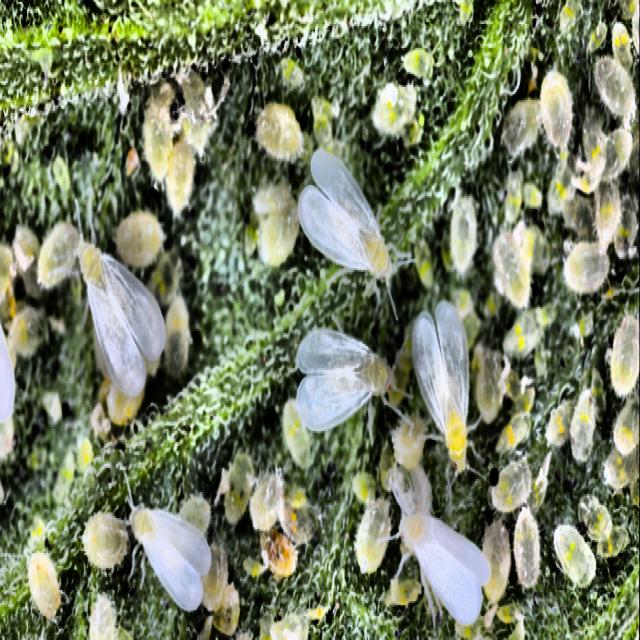nymph: (253, 185, 299, 265), (492, 220, 534, 307), (471, 344, 509, 422), (36, 222, 79, 289), (143, 83, 172, 179), (354, 498, 391, 572), (215, 453, 254, 523), (594, 55, 635, 118), (82, 512, 128, 568), (255, 104, 303, 157), (117, 211, 163, 266), (553, 525, 595, 585), (540, 70, 572, 148), (481, 520, 510, 603), (576, 115, 607, 192), (610, 314, 639, 396), (371, 83, 416, 135), (162, 294, 190, 377), (501, 98, 540, 157), (563, 242, 609, 292), (450, 192, 477, 274), (490, 459, 531, 512), (388, 462, 431, 512), (165, 137, 193, 213), (513, 507, 539, 586), (281, 398, 310, 468), (29, 553, 60, 618), (570, 388, 597, 462), (13, 226, 40, 298), (503, 309, 543, 357), (177, 72, 215, 120), (279, 496, 315, 546), (594, 181, 620, 250), (201, 544, 228, 610), (8, 305, 42, 357), (249, 474, 280, 531), (90, 596, 131, 638), (392, 420, 424, 468), (613, 400, 639, 455), (578, 494, 609, 540), (603, 448, 636, 490), (495, 411, 530, 449), (213, 583, 239, 634), (607, 126, 632, 176), (178, 496, 210, 533), (545, 401, 571, 446), (271, 614, 307, 638)
whitefly: (77, 239, 164, 398), (298, 150, 388, 276), (400, 511, 489, 623), (412, 302, 469, 468), (296, 329, 389, 427), (130, 507, 210, 610)
